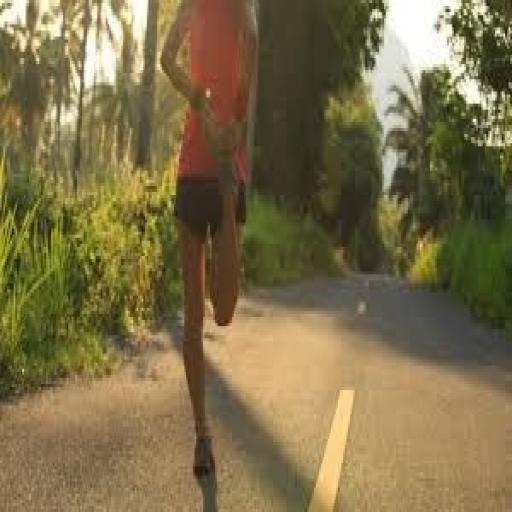running: (157, 0, 263, 482)
